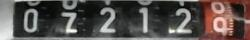digits: (98, 6, 116, 32), (175, 7, 192, 33), (22, 8, 38, 32), (62, 11, 76, 35), (214, 16, 226, 40), (138, 6, 148, 32)
